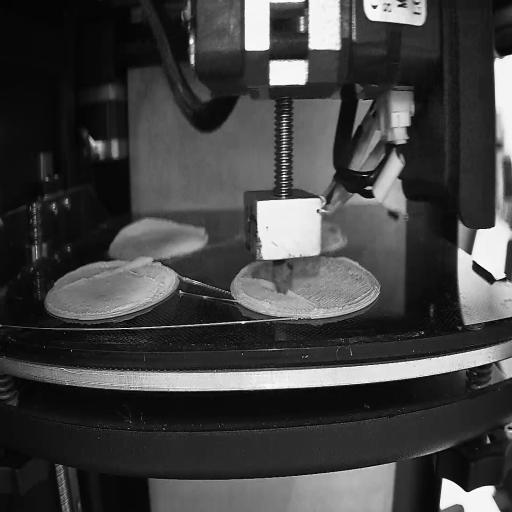over_extrusion: (60, 254, 155, 292), (108, 216, 209, 240), (334, 252, 371, 276), (241, 274, 276, 290), (289, 287, 303, 301)
